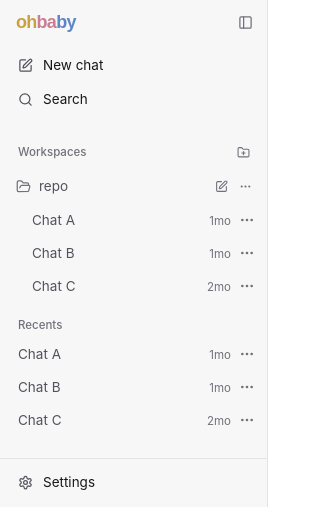
exports HTML from the target row without selecting it
Click the 1st button named "Actions for Chat B". click: (247, 253)
box: [235, 241, 259, 265]
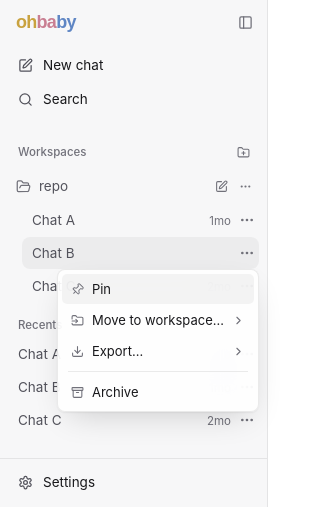
Click the menu item "Export…". click: (158, 351)
box: [62, 336, 254, 366]
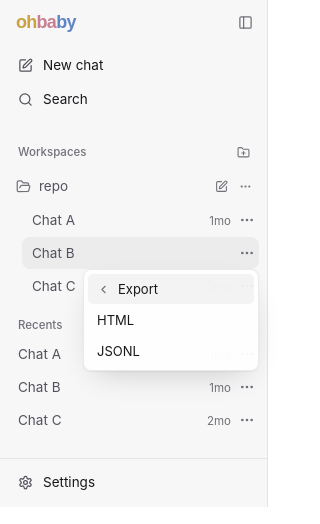
Click the menu item "HTML". click: (171, 320)
box: [88, 305, 254, 335]
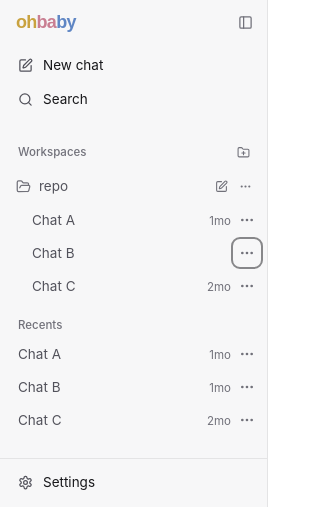
Check: the menu is gone
